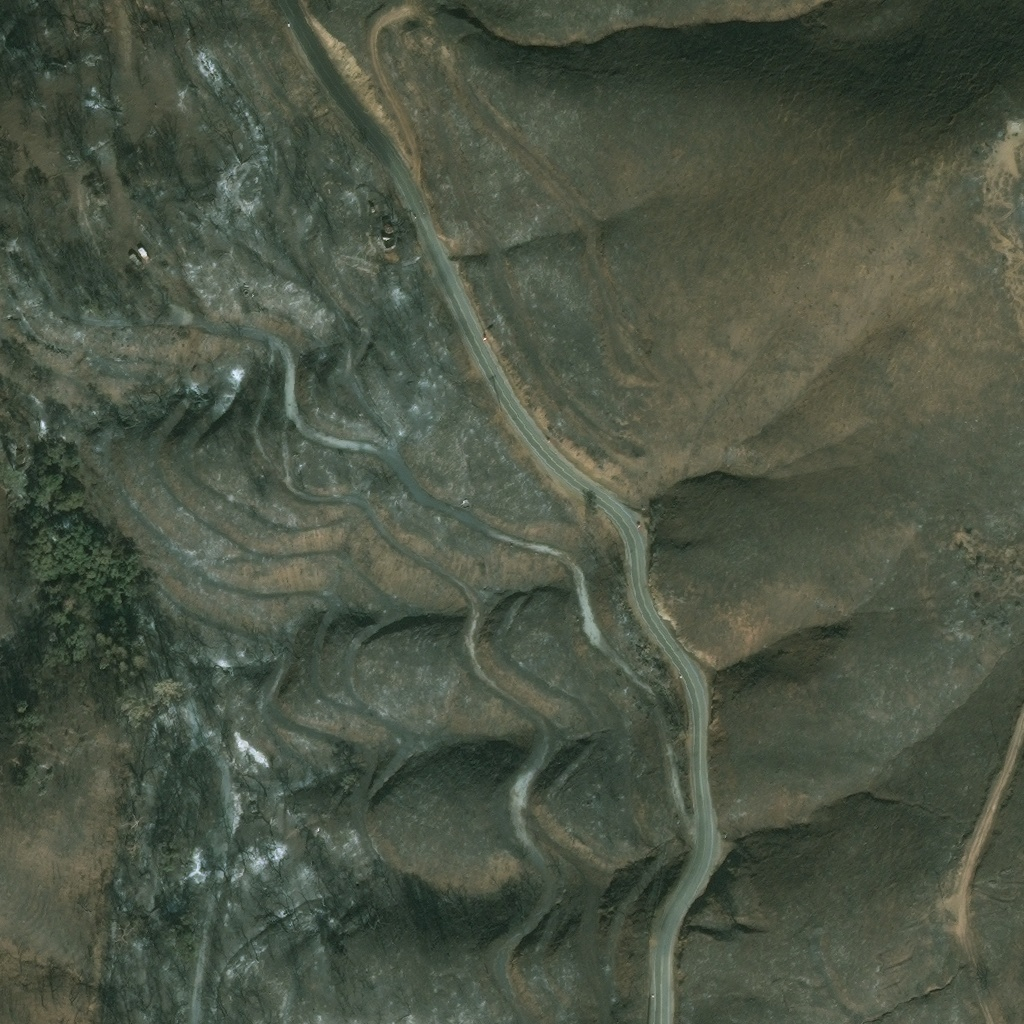0 no-damage: (136, 245, 149, 259), (128, 249, 141, 263)
4 un-classified: (573, 486, 588, 499)
